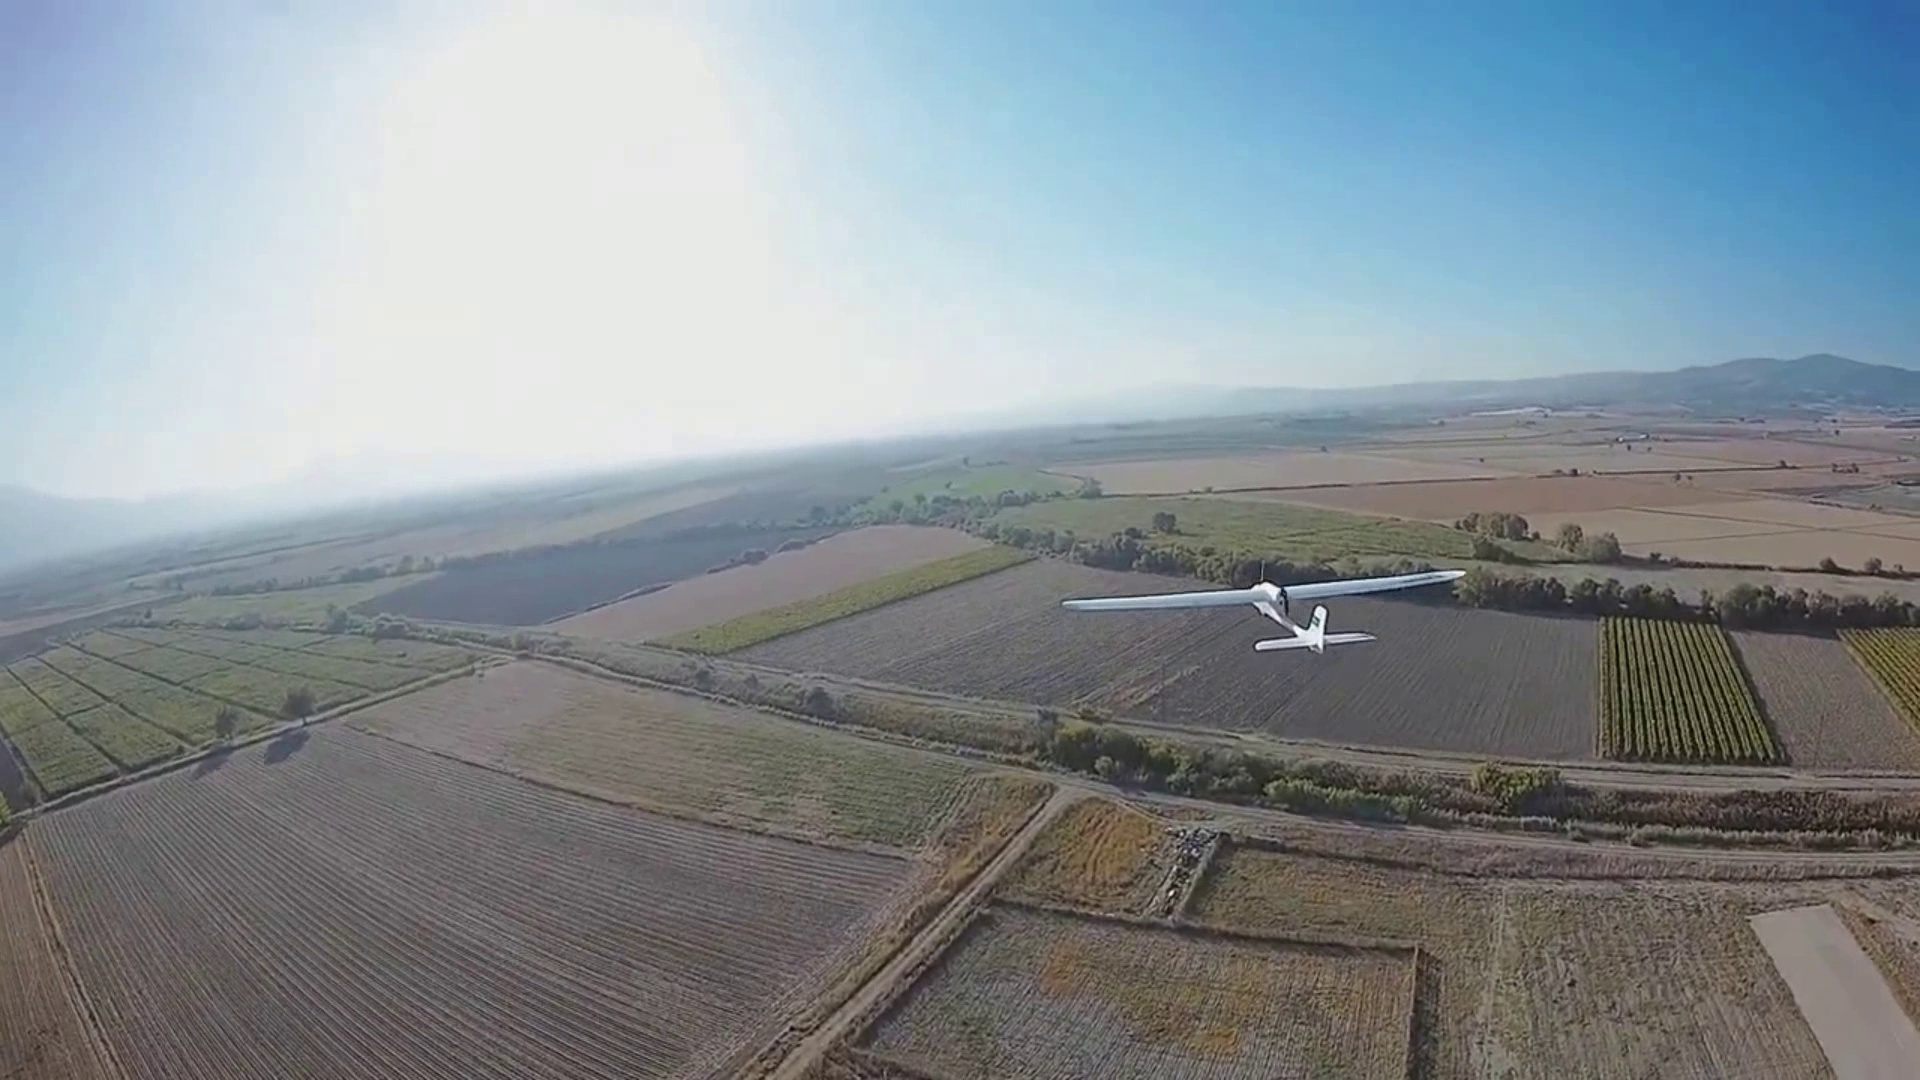airplane: (1058, 558, 1465, 651)
